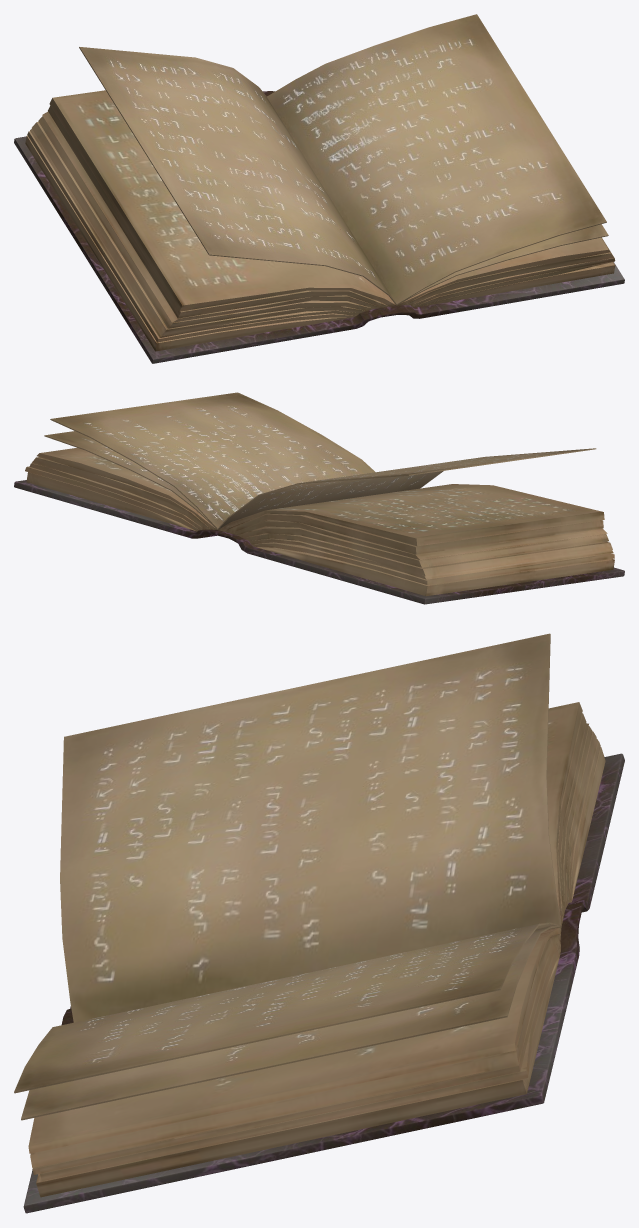
File: book.glb
3 renders of one model, top to bottom at view 1: azimuth 30°, elevation 25°; view 2: azimuth 150°, elevation 25°; view 3: azimuth 270°, elevation 25°, orthographic. The views are drawn at different scales.
Parts seen in each view (by area): view 1: Pages_Thin, Pages_Thick, Cover; view 2: Pages_Thick, Pages_Thin, Cover; view 3: Pages_Thin, Pages_Thick, Cover.
Boxes of the visible parts, x1,y1,x2,y2 form: Pages_Thin: (79, 14, 608, 305); Pages_Thick: (25, 90, 615, 351); Cover: (14, 91, 624, 363); Pages_Thick: (25, 447, 614, 596); Pages_Thin: (44, 392, 596, 529); Cover: (14, 480, 624, 604); Pages_Thin: (14, 633, 561, 1120); Pages_Thick: (28, 702, 605, 1197); Cover: (23, 753, 624, 1213).
Size of the model in its own units: 5.21 by 2.09 by 3.8.
Materials: 3 (3 with a texture image).
